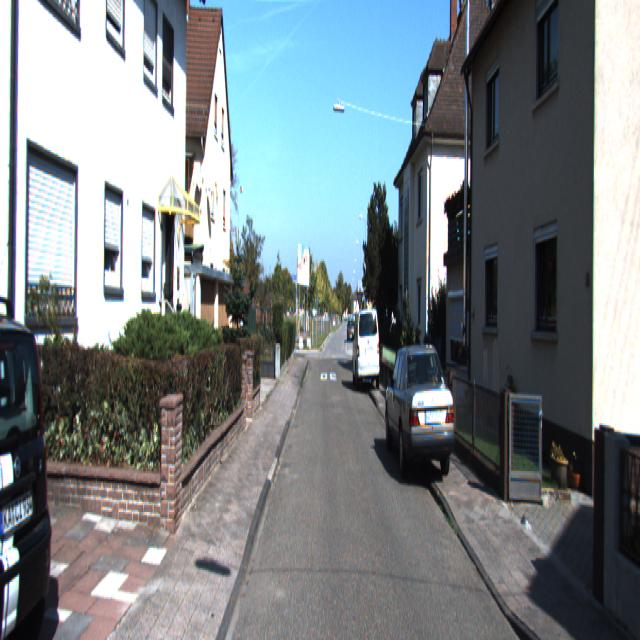Car: (0, 284, 57, 638), (384, 333, 456, 498), (352, 305, 380, 393)
